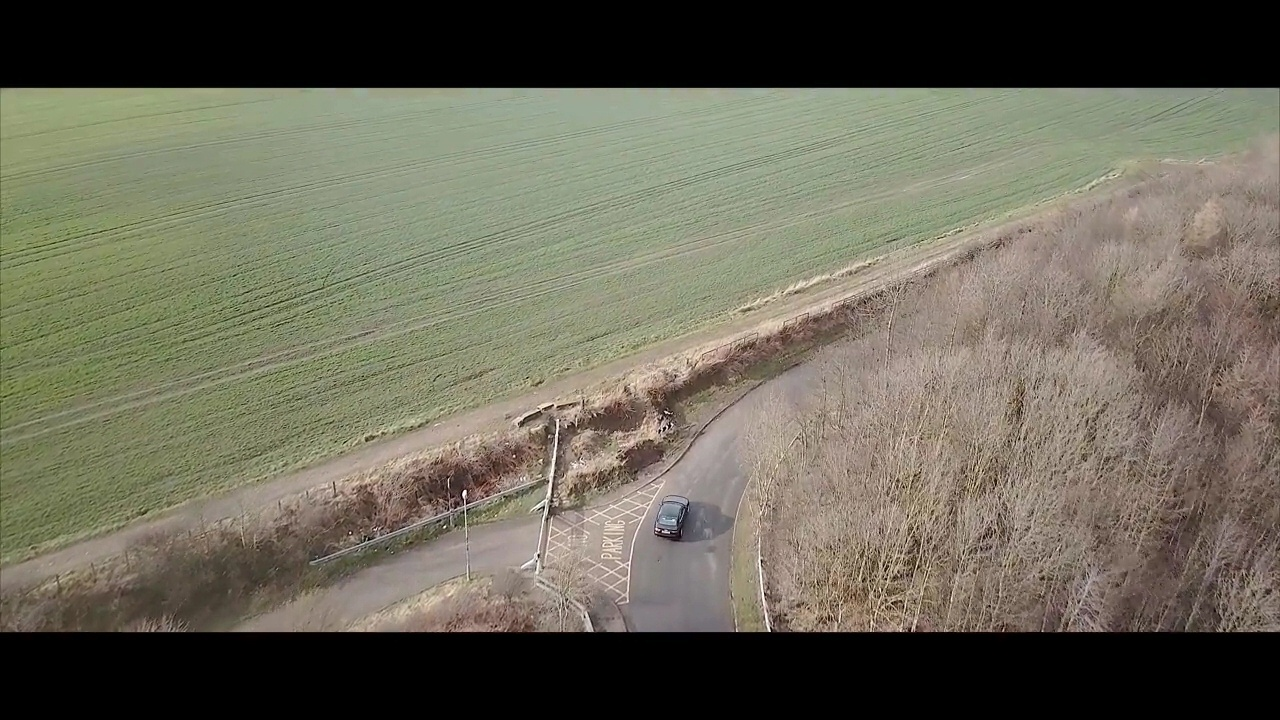araba: (651, 490, 691, 541)
